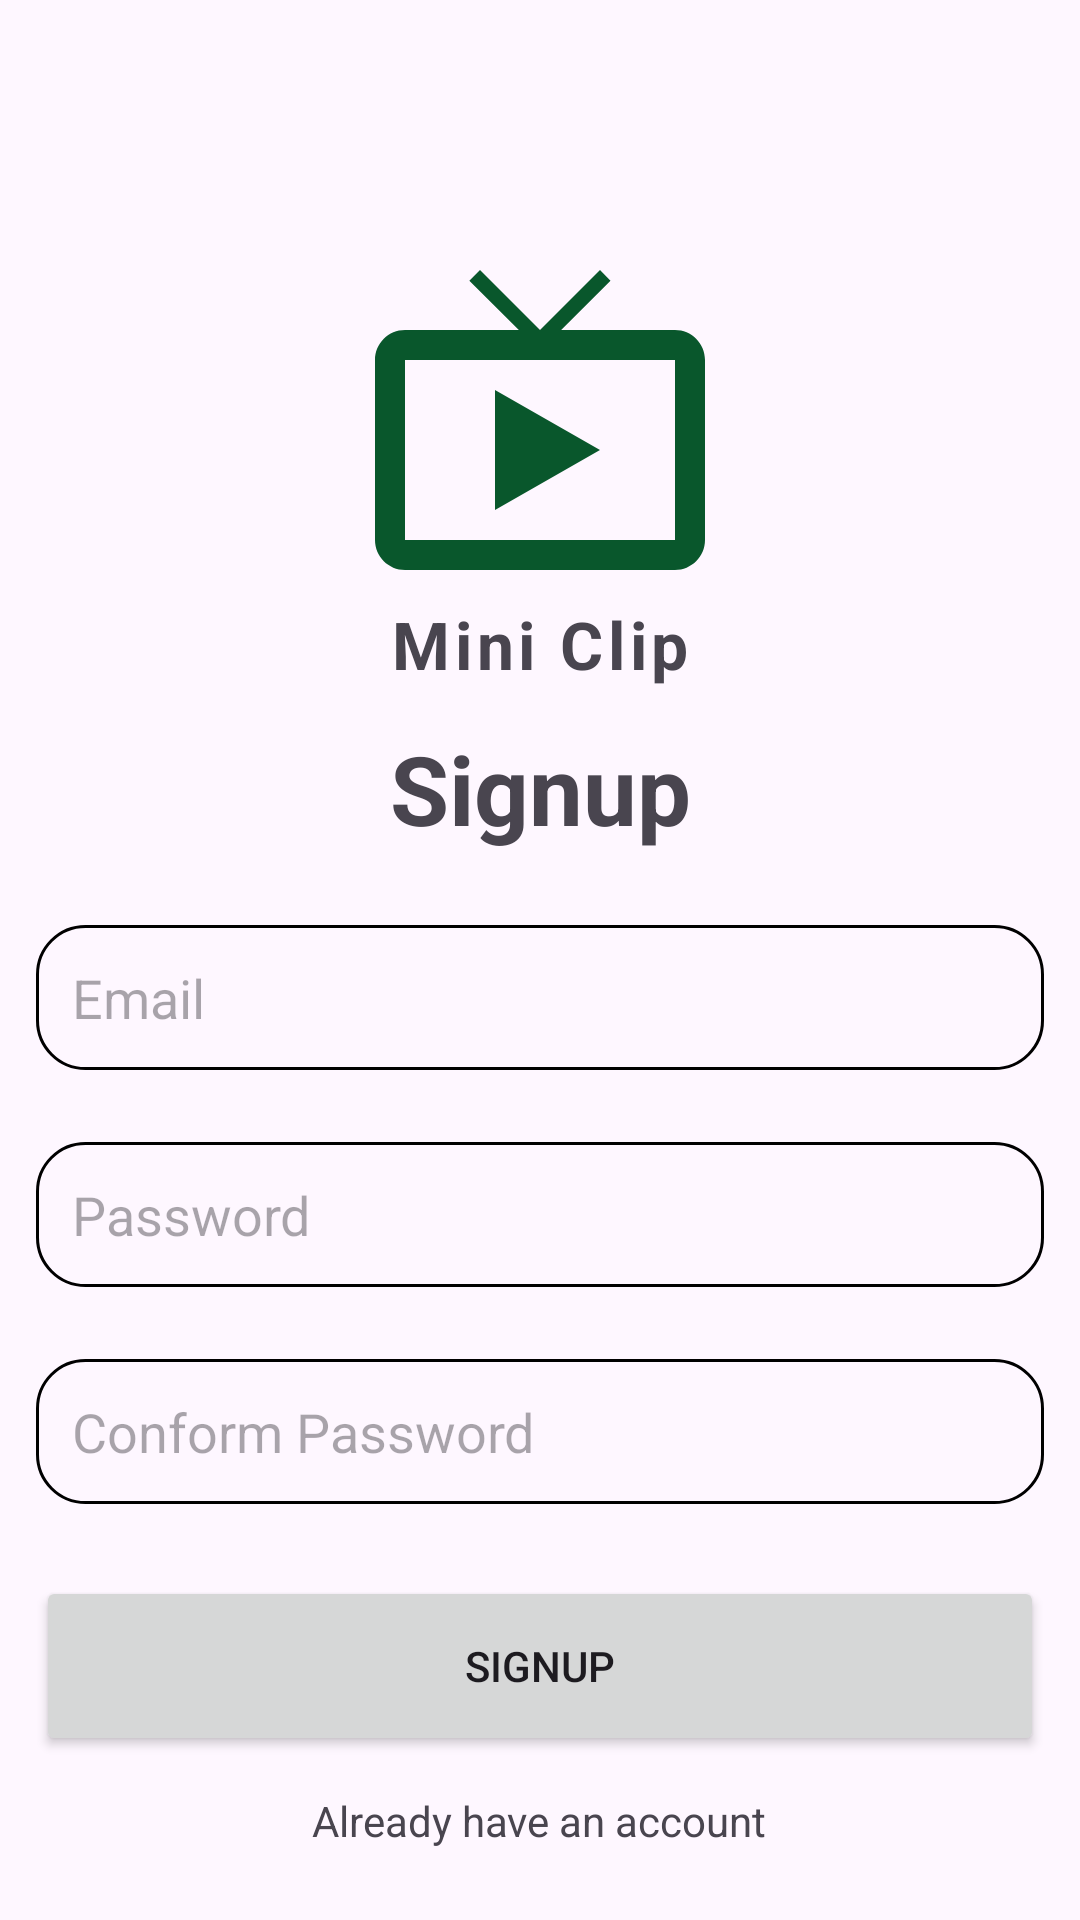

Screen size 1080 x 1920. Icon name, then its box in pixels as (x1, y1, x2, y2):
vedio: (375, 270, 705, 570)
